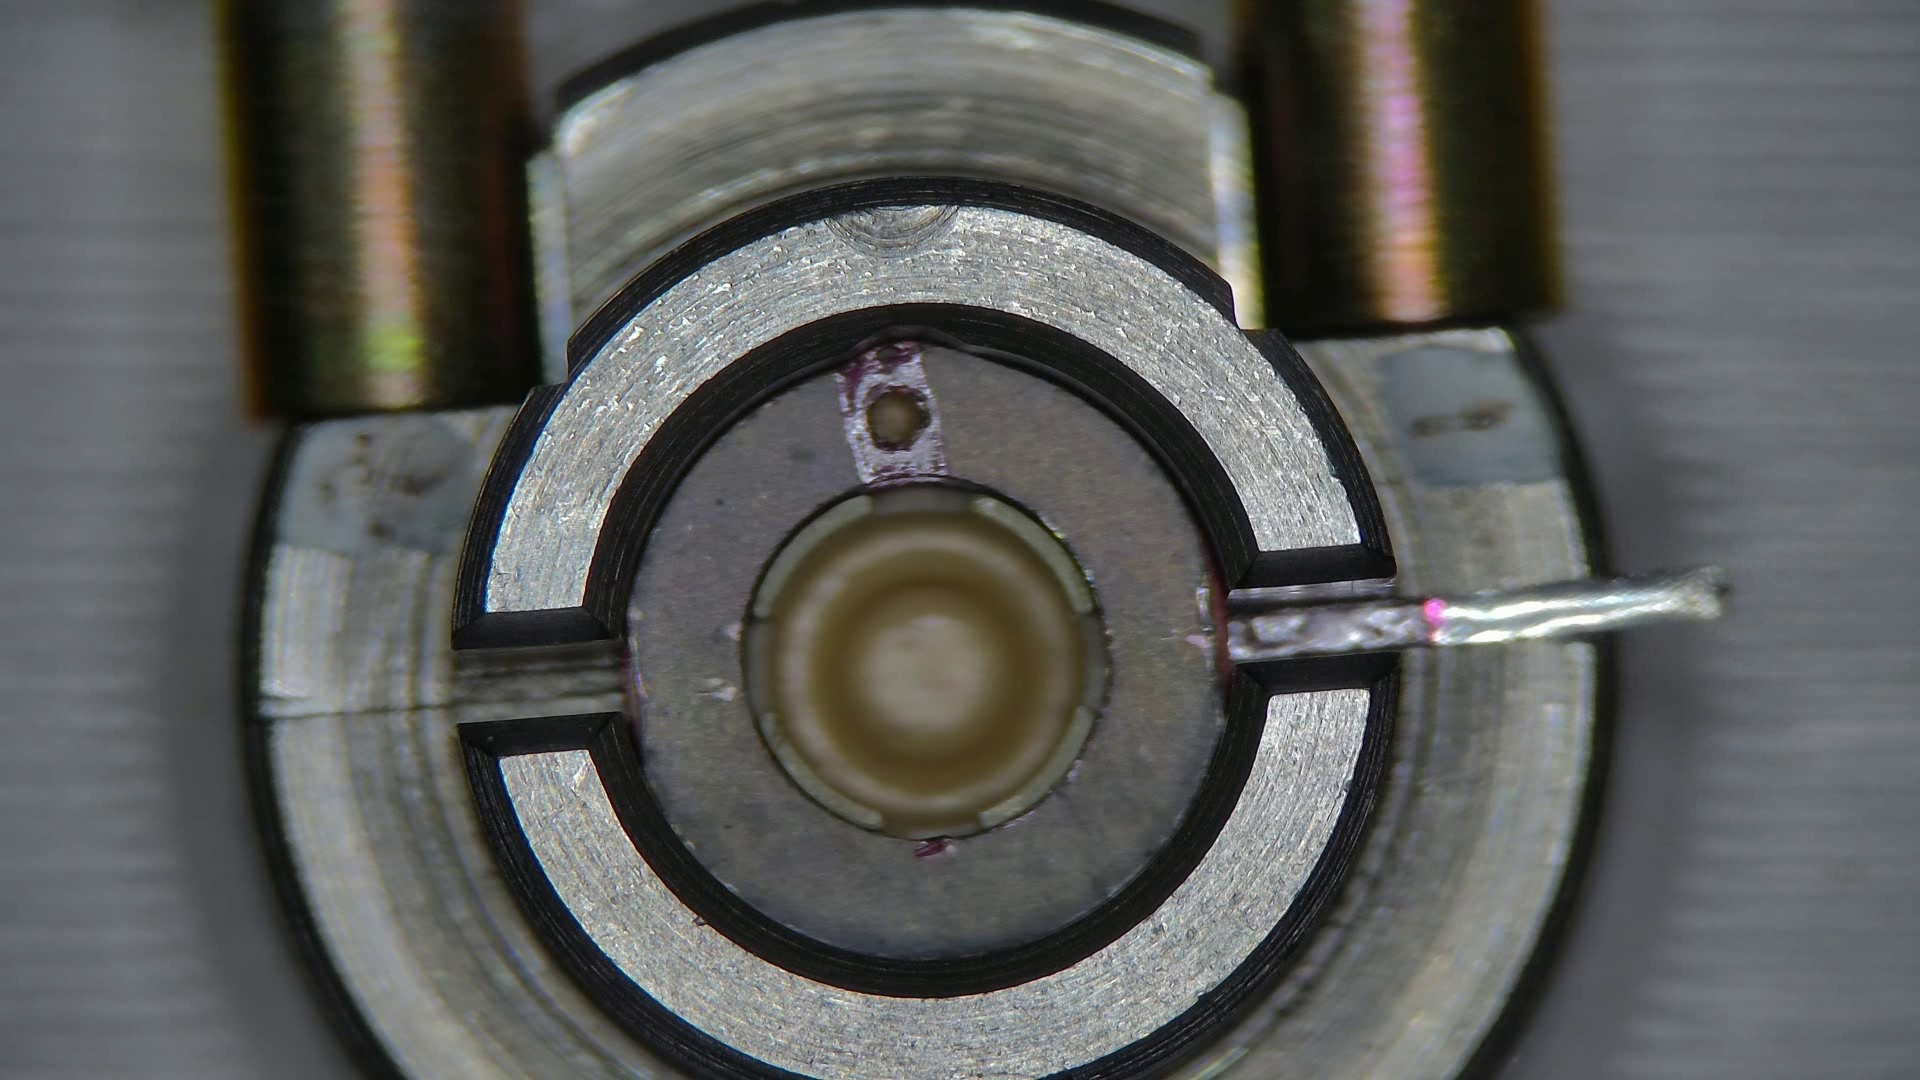YellowOring: (626, 344, 1222, 963)
